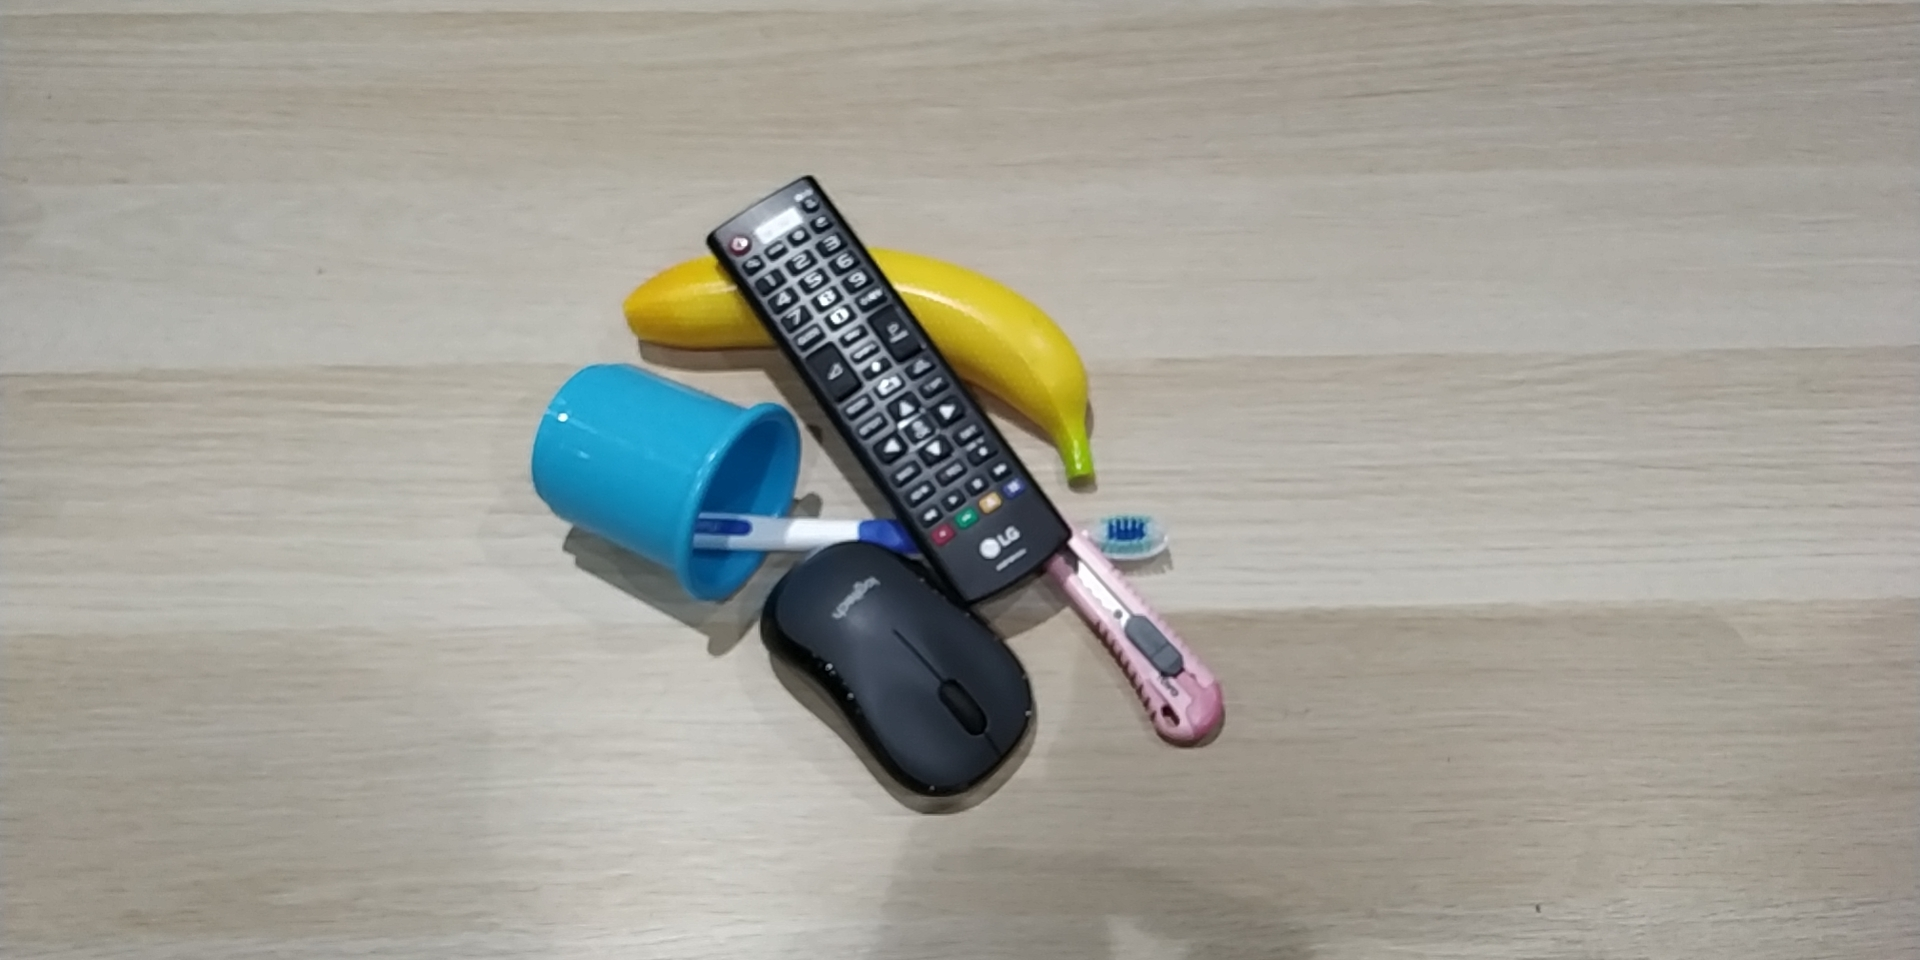banana: (622, 238, 1111, 489)
cup: (531, 362, 808, 613)
knife: (1033, 519, 1234, 756)
mouse: (767, 539, 1033, 800)
remote: (709, 169, 1078, 602)
toothbrush: (680, 503, 1176, 566)
